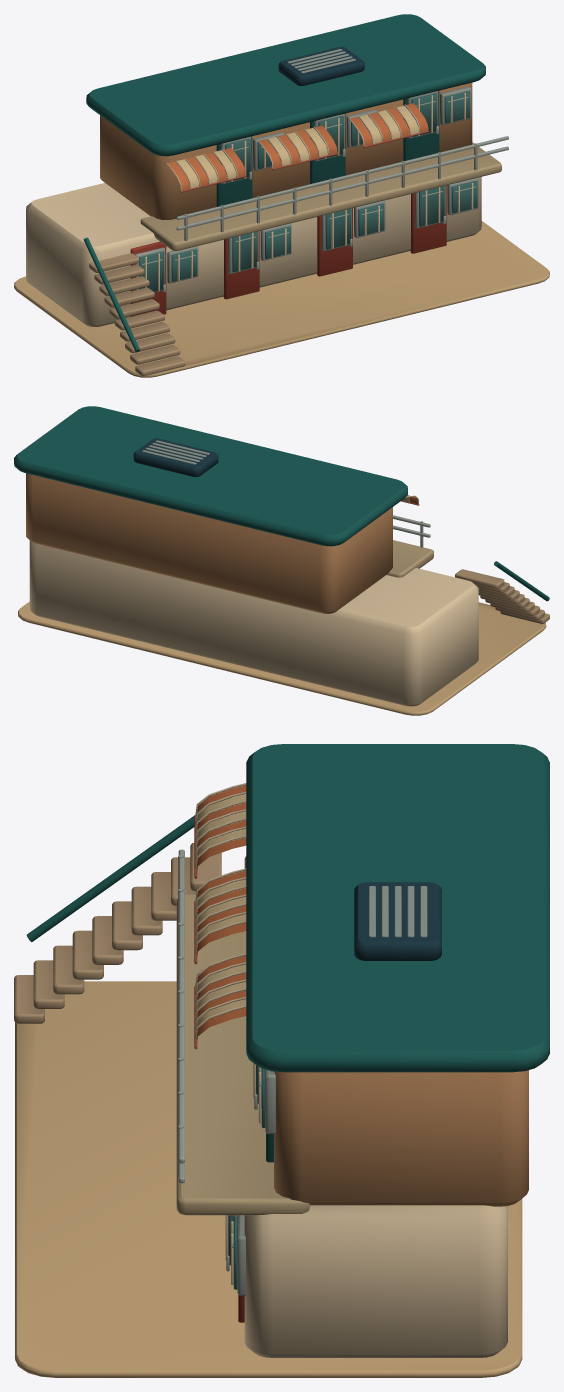
Rendered from motel.glb.
3 renders of one model, top to bottom at view 1: azimuth 30°, elevation 25°; view 2: azimuth 150°, elevation 25°; view 3: azimuth 270°, elevation 25°, orthographic. The views are drawn at different scales.
Visible parts, largest first — view 1: Motel; view 2: Motel; view 3: Motel.
Part boxes in pixels (box(x1,y1,x2,y2)): Motel: box(14, 14, 549, 377); Motel: box(14, 406, 549, 715); Motel: box(14, 744, 549, 1377).
Size of the model in its own units: 11 by 4.47 by 6.37.
